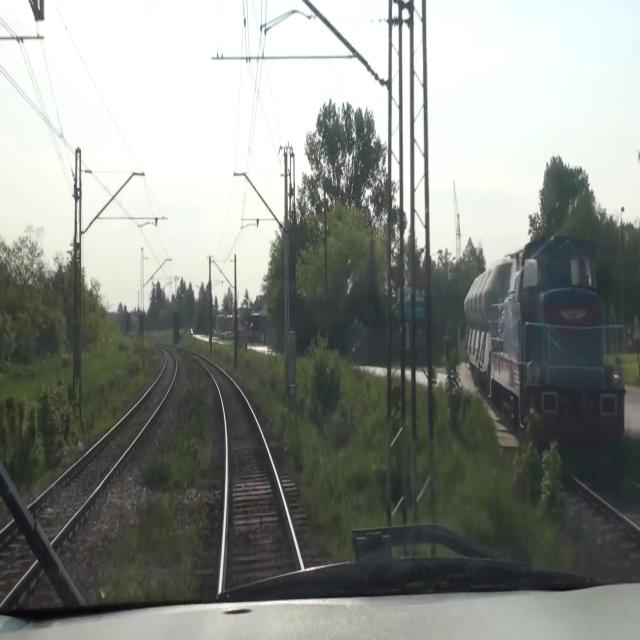rail-track: (0, 350, 174, 599), (202, 360, 300, 594), (568, 465, 640, 523)
